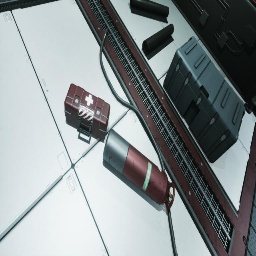FirstAidBox ,: (64, 83, 110, 140)
NitrogenTank ,: (103, 128, 175, 209)
